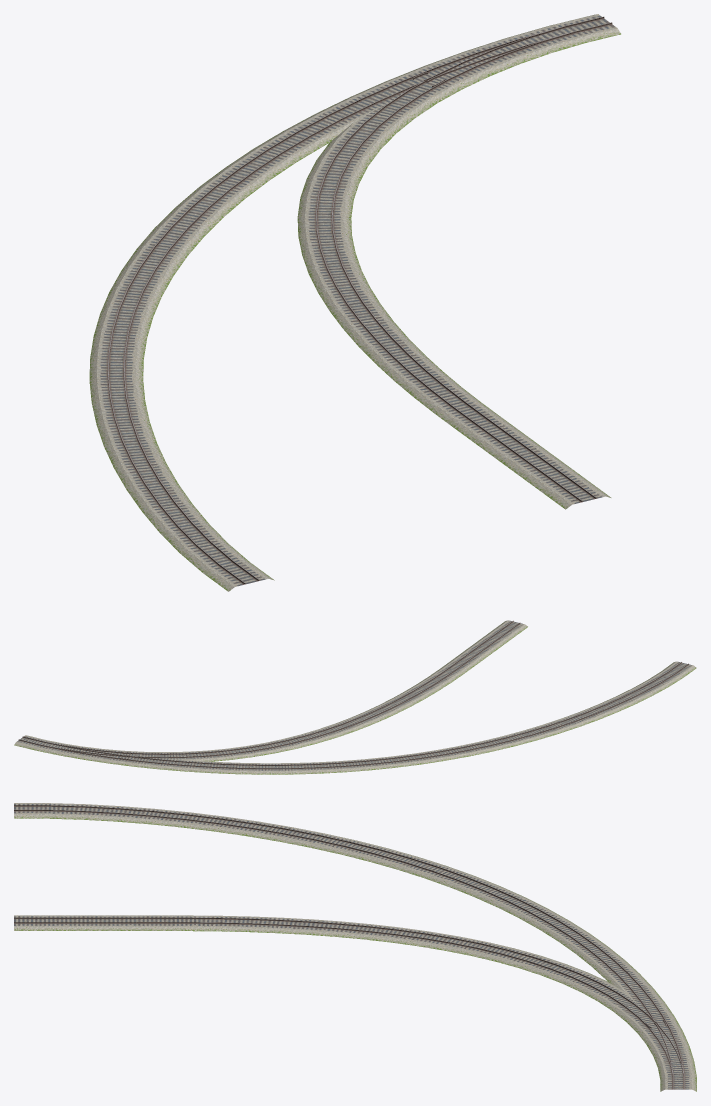
The model's file is Tr_FDbBnd3x3Flip.fbx.
The picture shows the model from 3 angles, top to bottom: view 1: azimuth 30°, elevation 25°; view 2: azimuth 150°, elevation 25°; view 3: azimuth 270°, elevation 25°; orthographic projection. The views are drawn at different scales.
Visible parts, largest first — view 1: U3DMesh; view 2: U3DMesh; view 3: U3DMesh.
Boxes of the visible parts, left/top/right/bottom form: U3DMesh: left=89, top=14, right=620, bottom=591; U3DMesh: left=14, top=620, right=696, bottom=774; U3DMesh: left=14, top=803, right=696, bottom=1091.
Bounding box in the file's own units: 82.21 × 0.4496 × 82.21.
